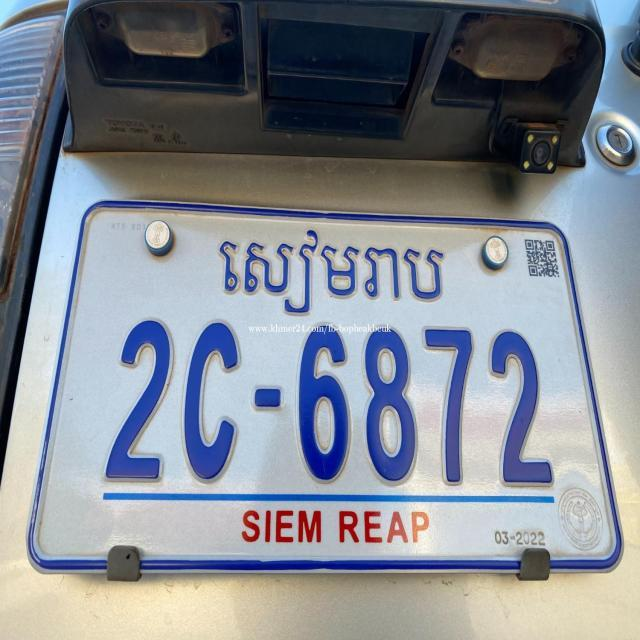Siem_Reap: (219, 228, 449, 320)
